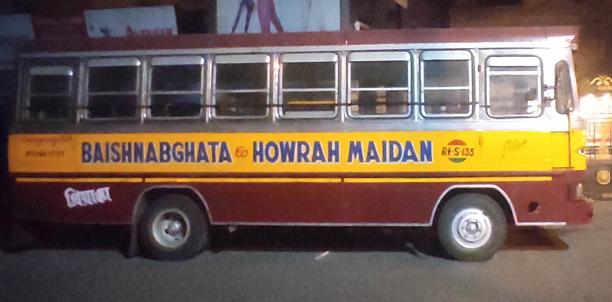Bus: (0, 16, 598, 264)
